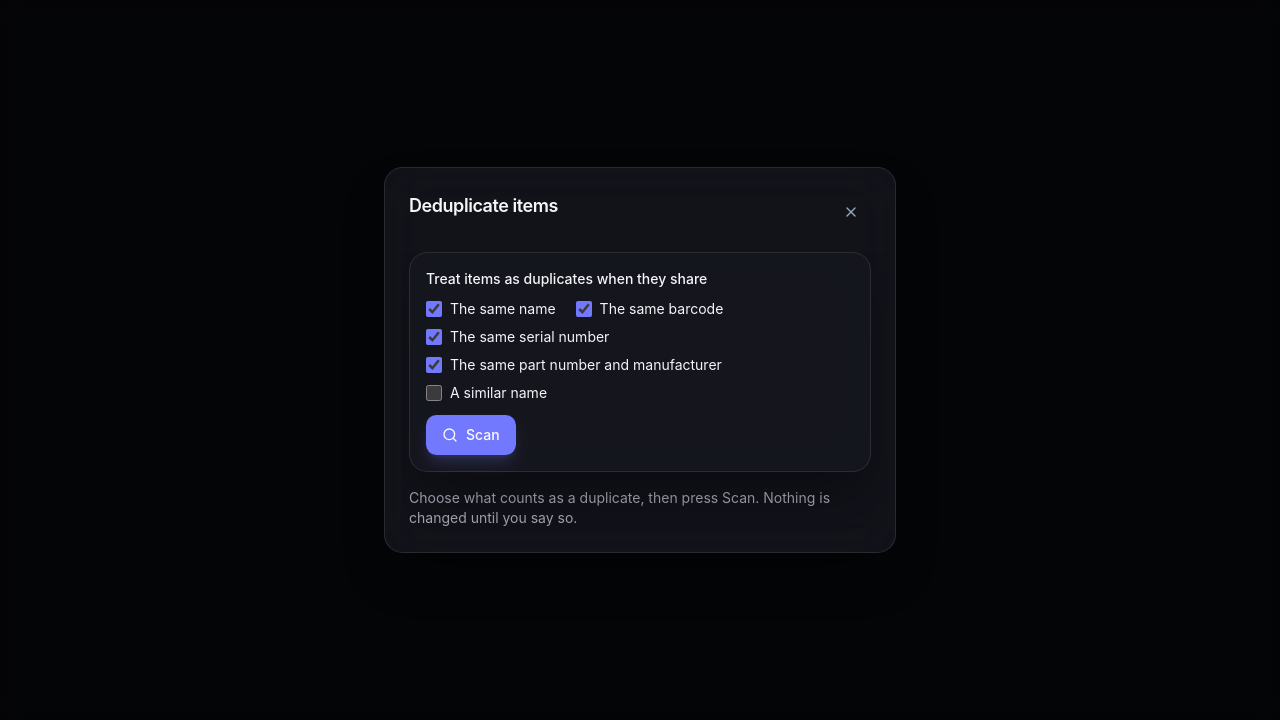
it: DeduplicateItemsDialog › refuses to scan with nothing to match on
The width and height of the screenshot is (1280, 720).
Click the checkbox labelled "The same name" at (434, 309), box [426,301,442,317]
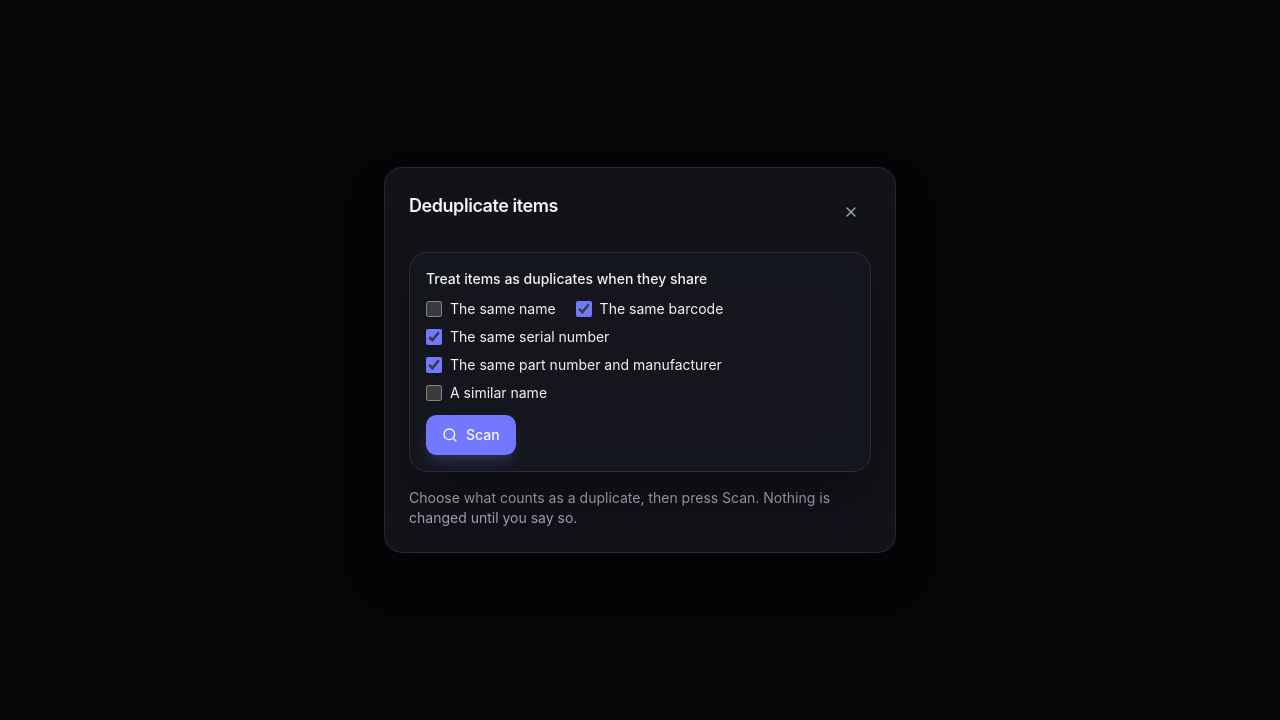
Click the checkbox with test id "dedupe-signal-barcode" at (584, 309), box [576,301,592,317]
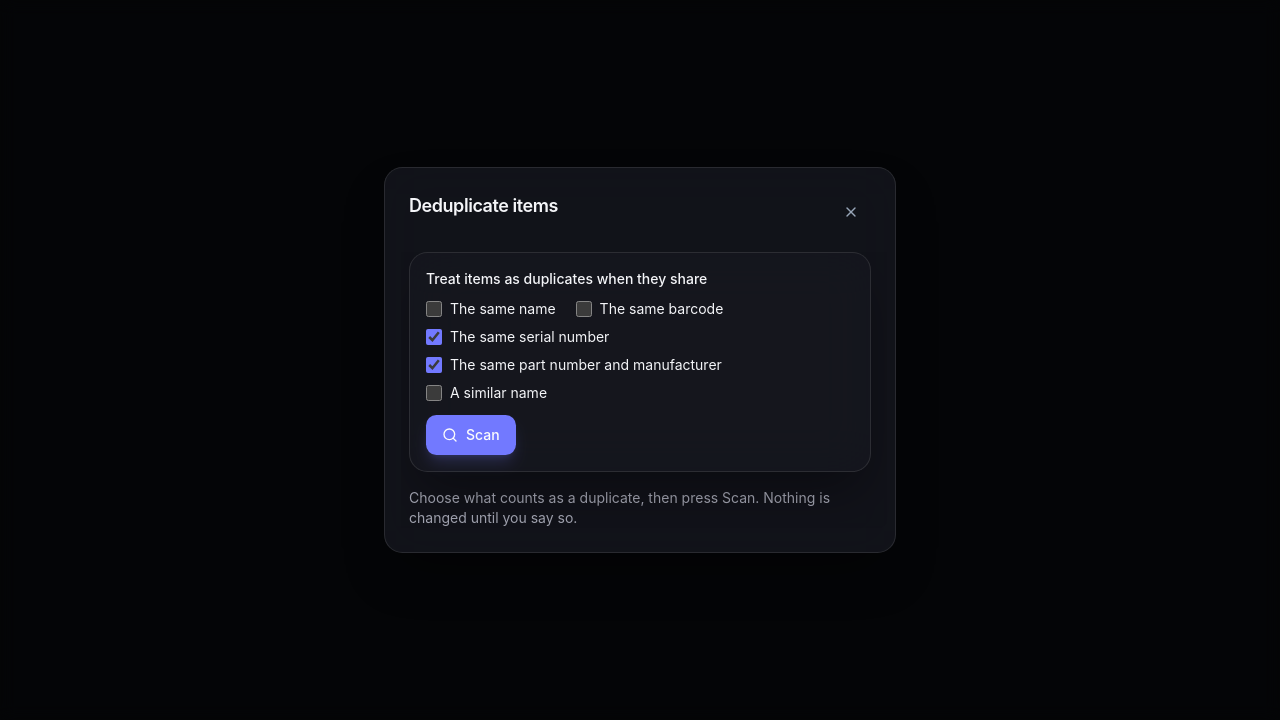
Click the checkbox labelled "The same serial number" at (434, 337), box [426,329,442,345]
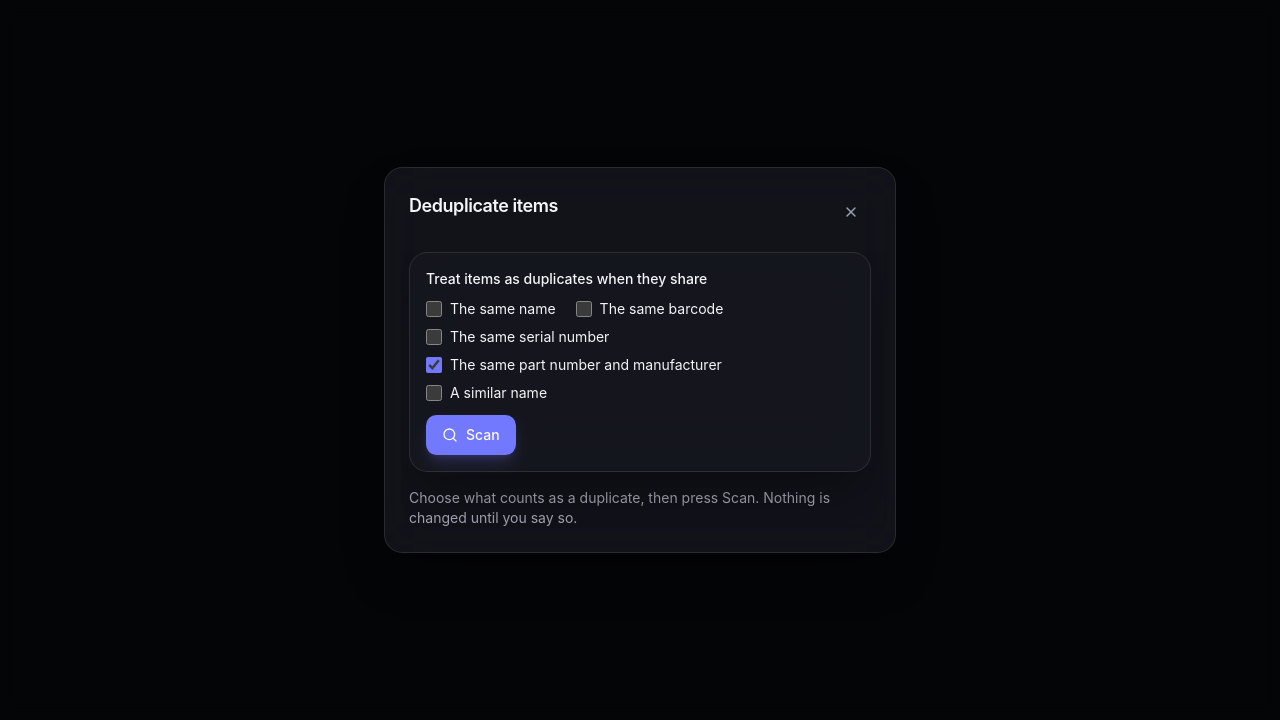
Click the checkbox labelled "The same part number and manufacturer" at (434, 365), box [426,357,442,373]
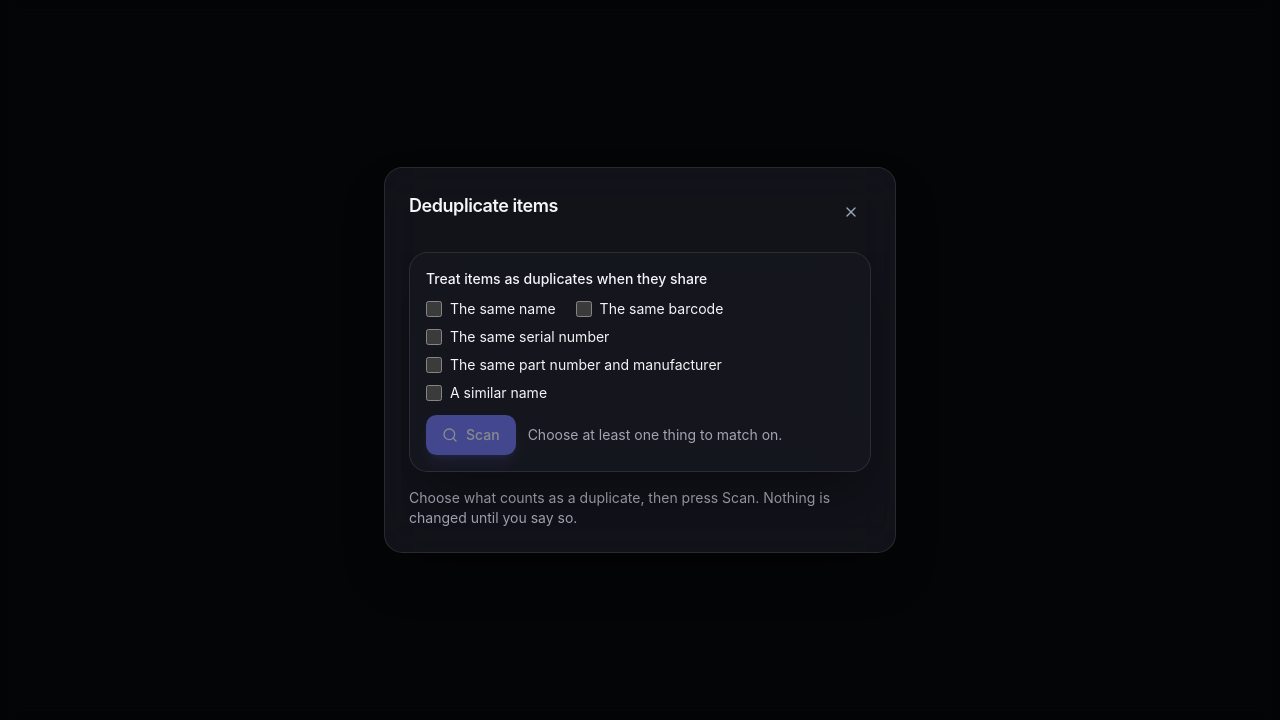
Check: the button with test id "dedupe-scan" is disabled, box [426,415,516,455]
